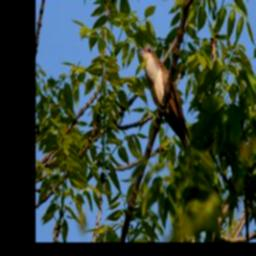Cuckoo: (139, 45, 193, 153)
